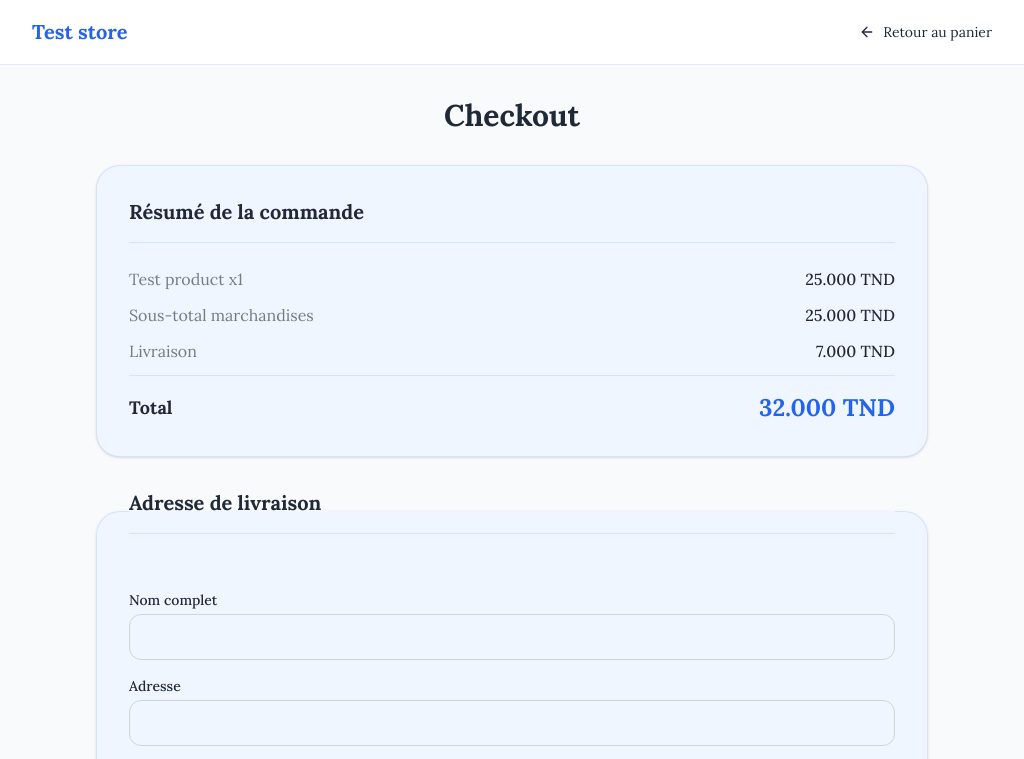
Test: checkout accessibility contract › moves focus to the first invalid address field on tenant storefront
This screenshot has width=1024, height=759.
expect the heading "Checkout" is shown: met, box [444, 96, 580, 134]
Type "Keep this address" into the field labelled "Adresse" at (512, 723), box [129, 700, 895, 746]
(page scrolled)
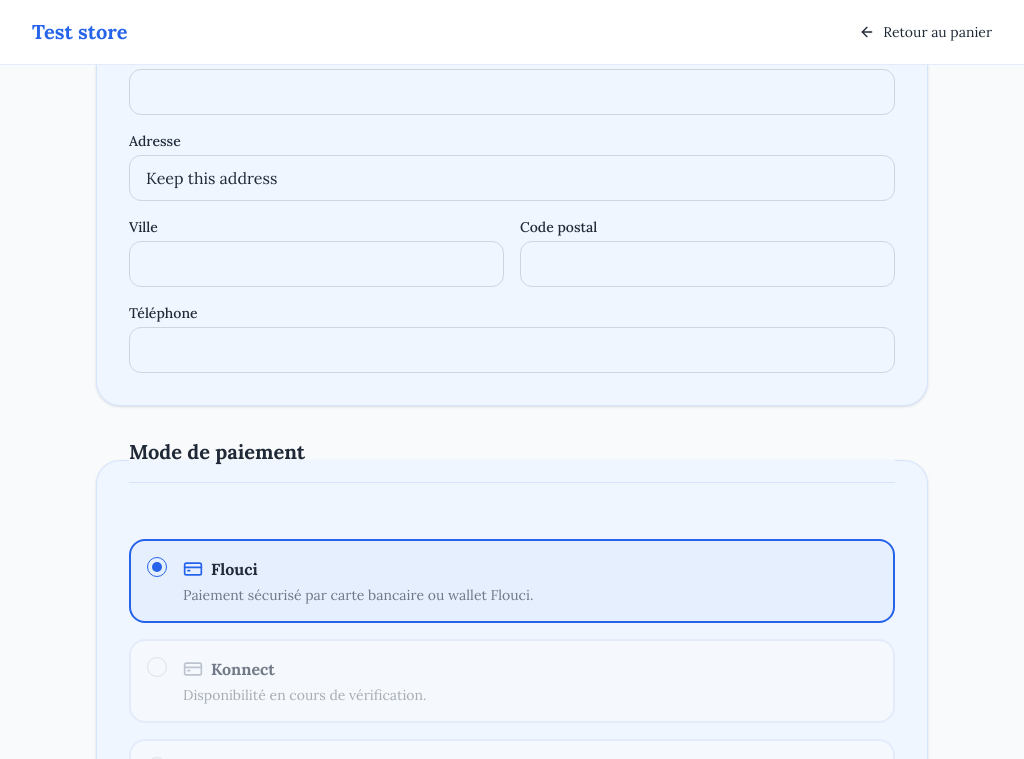
Submit the form
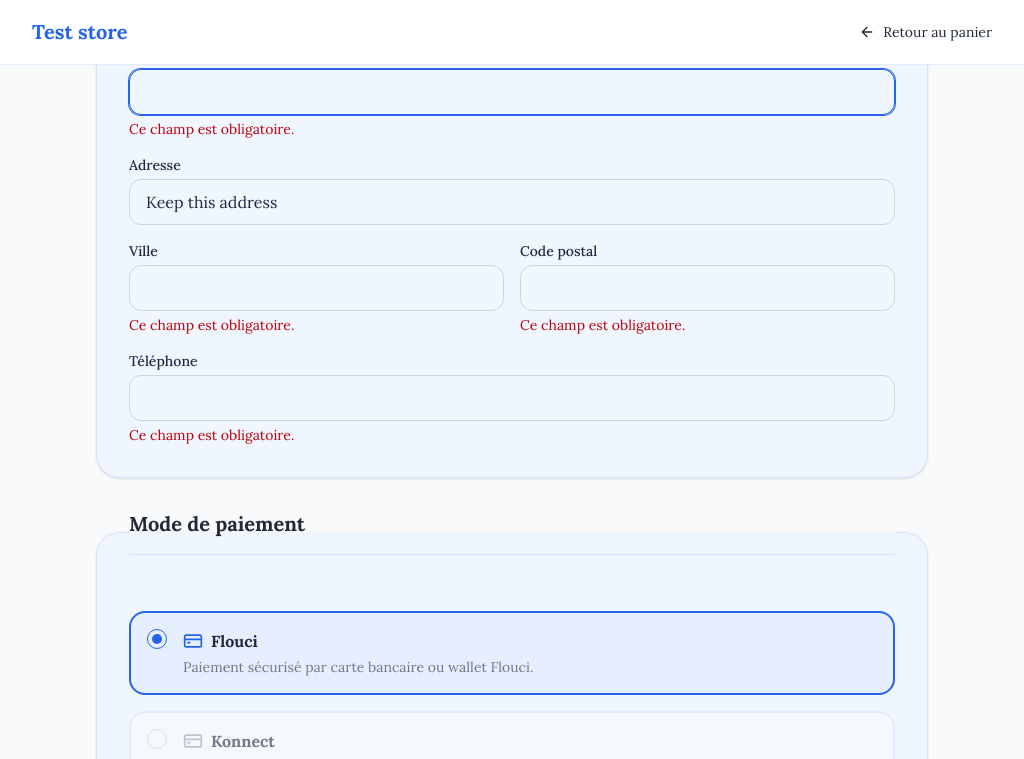
expect the text "Ce champ est obligatoire." below "Nom complet" is shown: met, box [129, 120, 294, 138]
